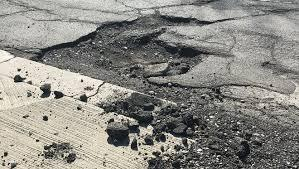pothole: (34, 8, 242, 106)
